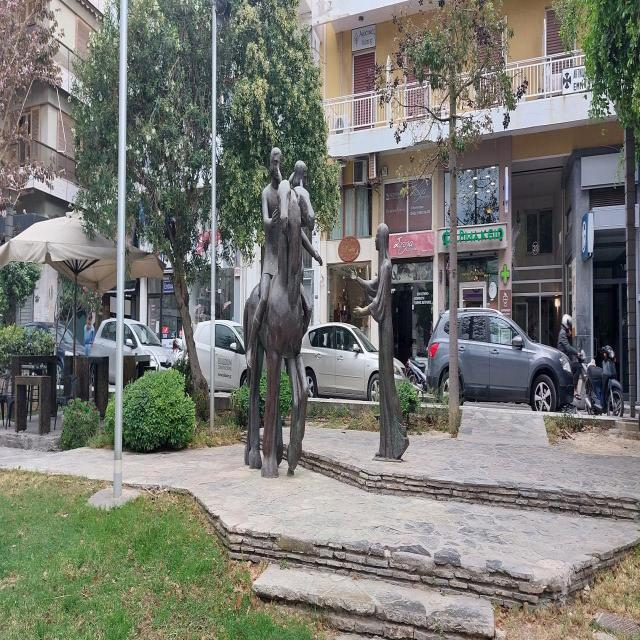Aretousa: (244, 148, 409, 481)
